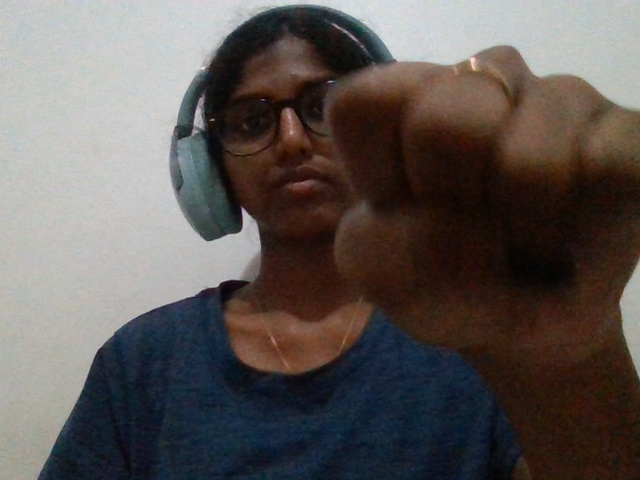Yes: (305, 19, 640, 434)
